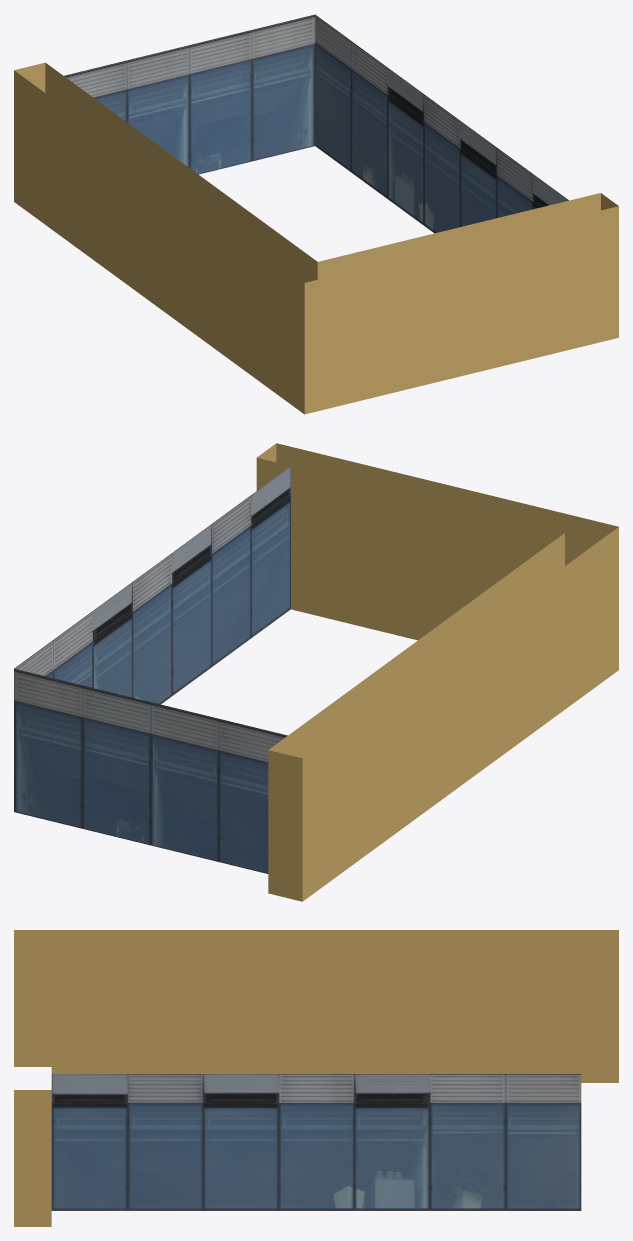
Rendered from Sci-Fi_Tower_Middle_01.fbx.
3 views of the same model, one above another, from view 1: azimuth 30°, elevation 25°; view 2: azimuth 150°, elevation 25°; view 3: azimuth 270°, elevation 25° (orthographic). The views are drawn at different scales.
Parts seen in each view (by area): view 1: Plane.001; view 2: Plane.001; view 3: Plane.001.
Boxes of the visible parts, box(x1,y1,x2,y2) form: Plane.001: box(14, 14, 618, 414); Plane.001: box(14, 443, 618, 901); Plane.001: box(14, 930, 618, 1226).
Size of the model in its own units: 7.5 by 3 by 12.
